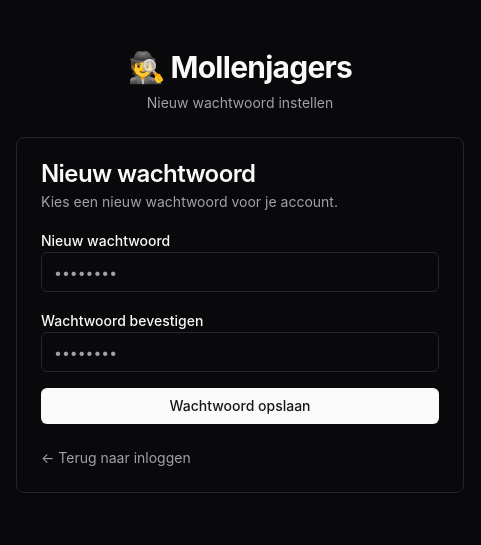
Test: ResetPasswordPage › shows error when passwords do not match
The width and height of the screenshot is (481, 545).
Type "abc" into the password field labelled "Nieuw wachtwoord" at (240, 272), box [41,252,439,292]
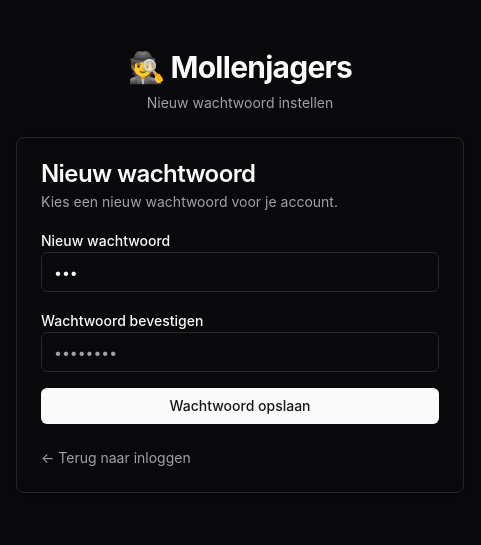
Type "xyz" into the password field labelled "Wachtwoord bevestigen" at (240, 352), box [41,332,439,372]
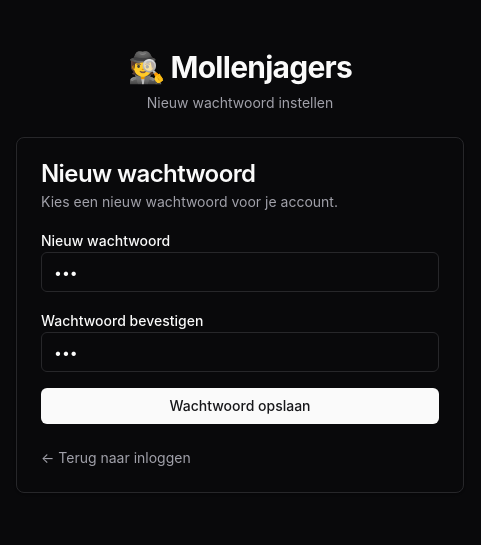
Click the button "Wachtwoord opslaan" at (240, 406), box [41,388,439,424]
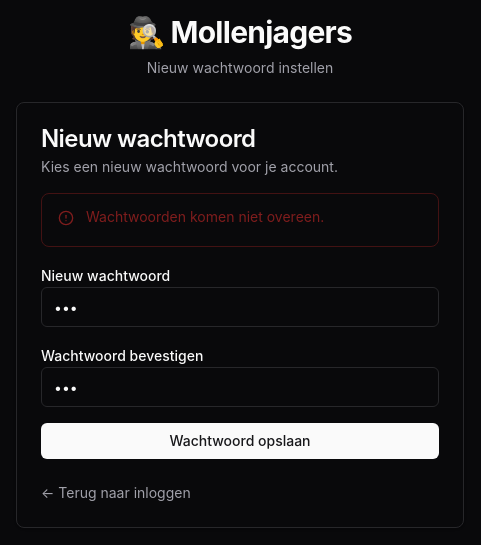
Result: the text "Wachtwoorden komen niet overeen." is shown at [86,208,324,225]
